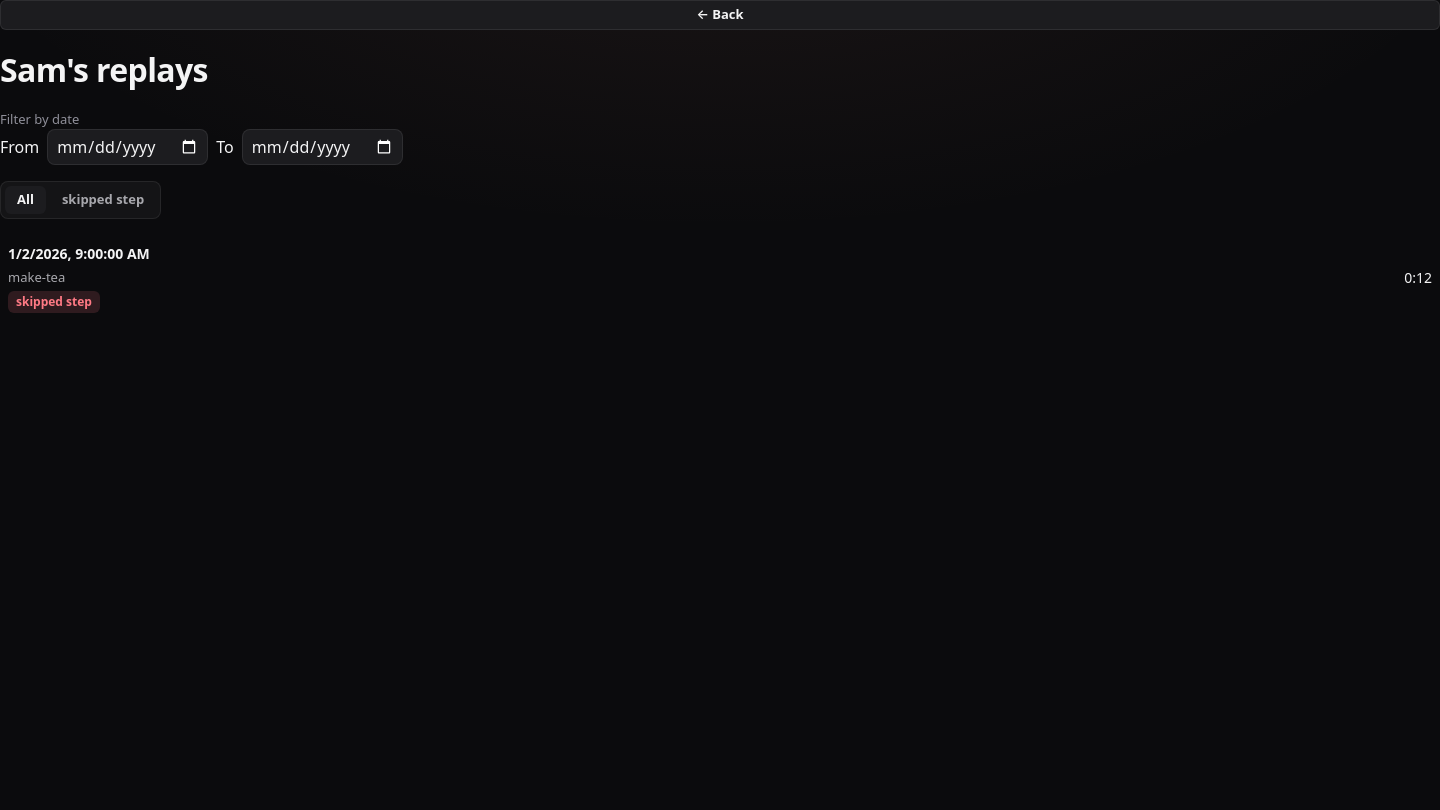
Replays › deletes a replay after confirming, and removes it from the list
This screenshot has width=1440, height=810.
What coordinates should you click on to do the following:
click the button "1/2/2026, 9:00:00 AM make-tea skipped step 0:12"
I would click on:
 (79, 253)
Its box is [0, 230, 1439, 325].
(page scrolled)
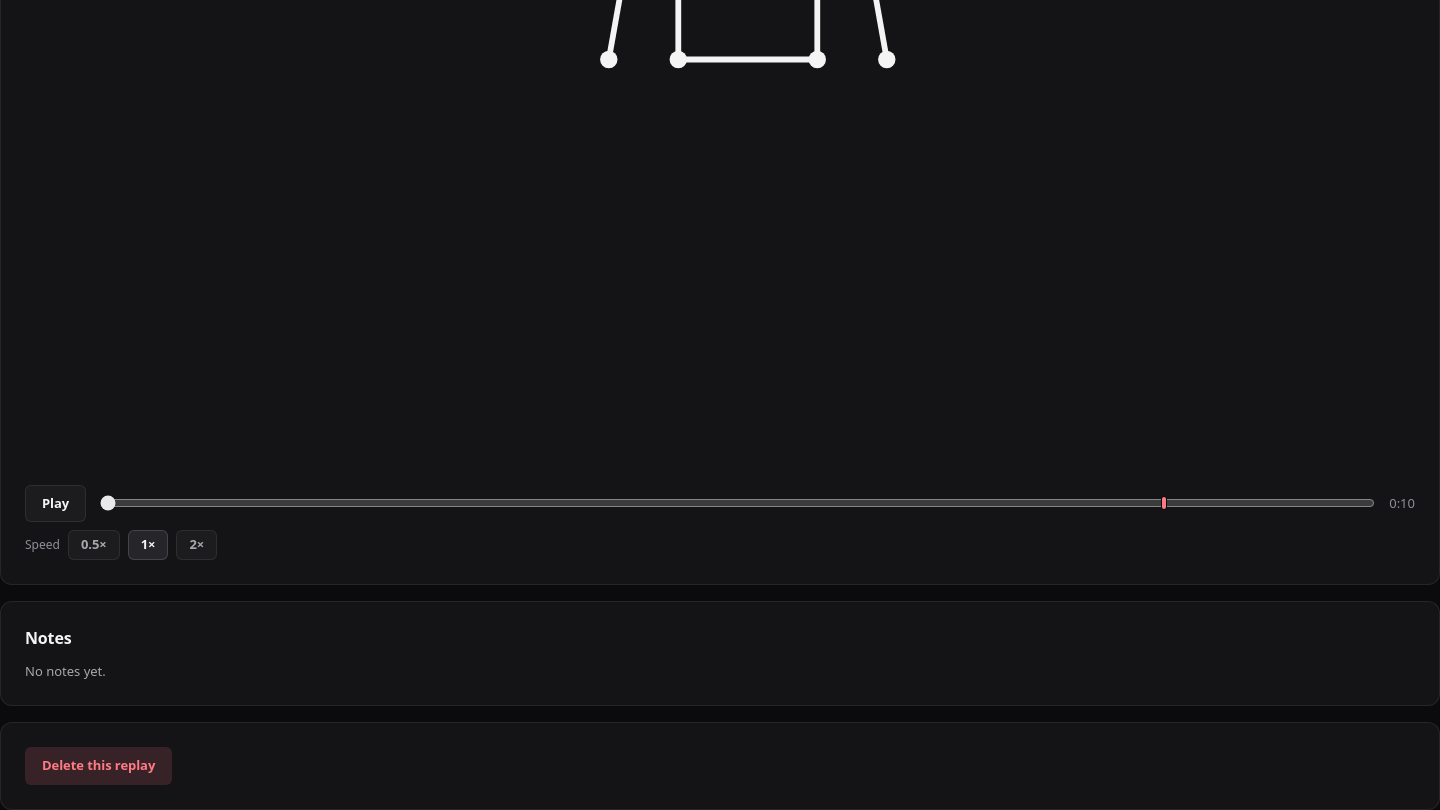
What coordinates should you click on to do the following:
click the button "Delete this replay"
I would click on:
 (99, 766)
Its box is [25, 747, 172, 784].
(page scrolled)
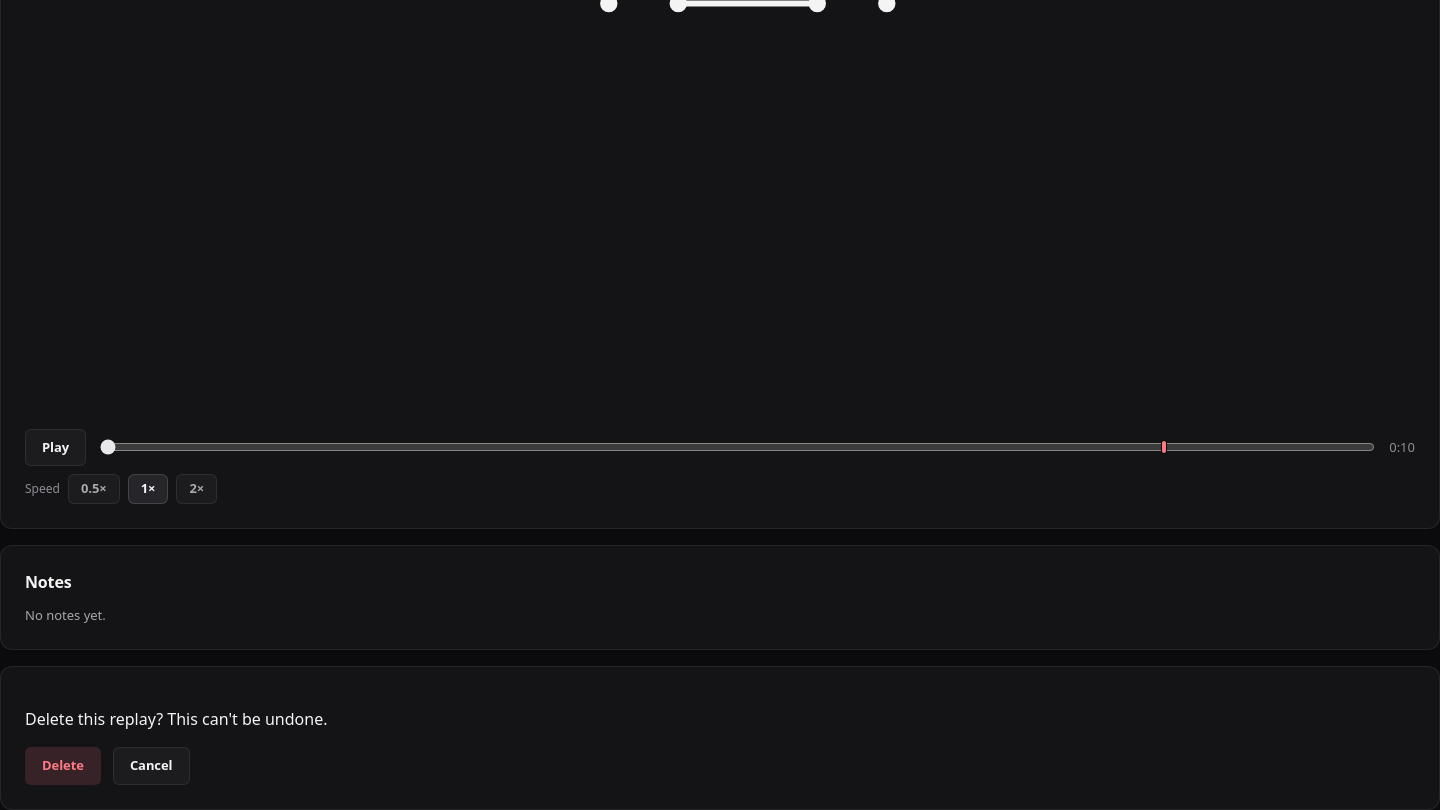
Check: the text "Delete this replay? This can't be undone." is shown, box [25, 708, 328, 730]
What coordinates should you click on to do the following:
click the button "Delete"
I would click on:
 (63, 766)
Its box is [25, 747, 101, 784].
(page scrolled)
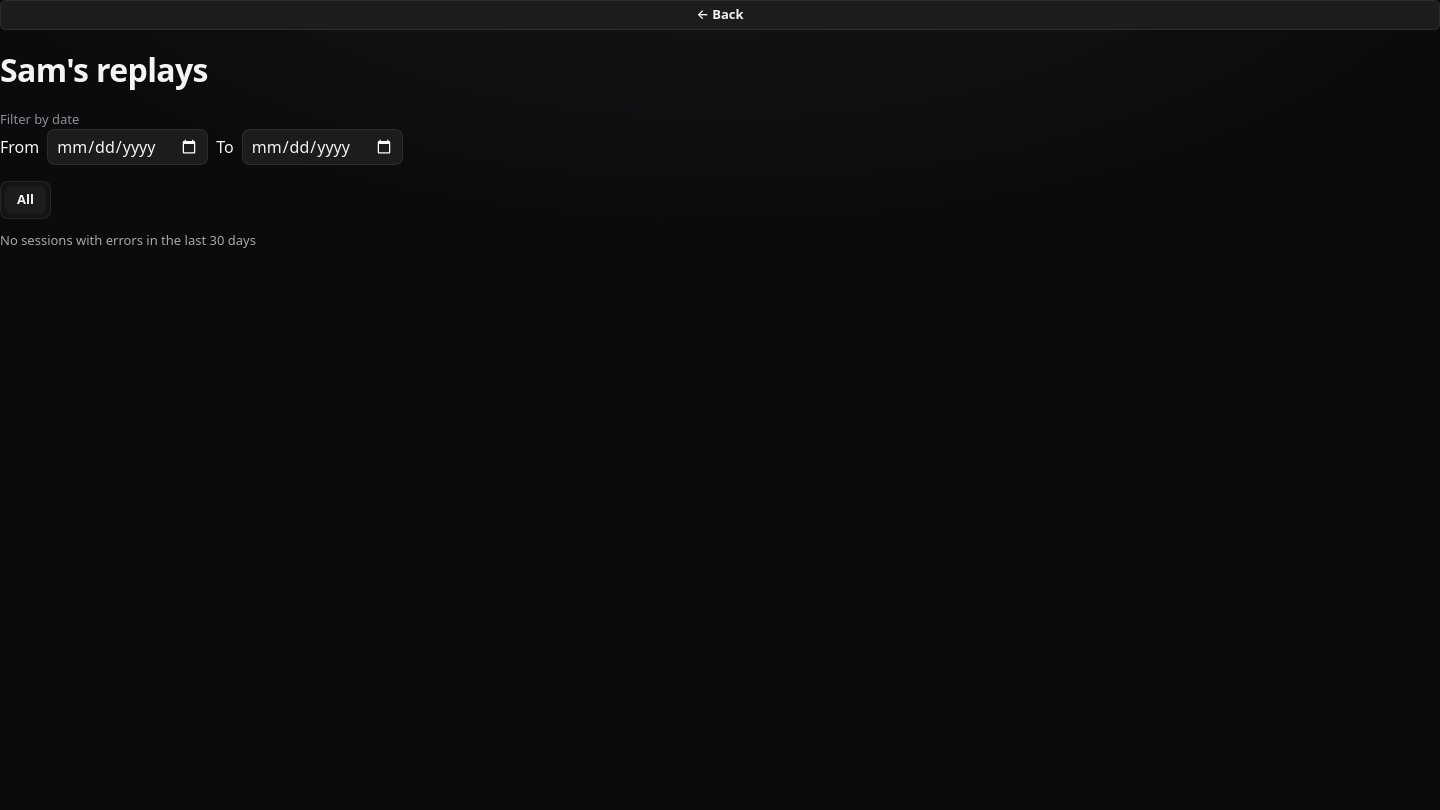
Check: the text "No sessions with errors in the last 30 days" is shown, box [0, 230, 256, 248]
